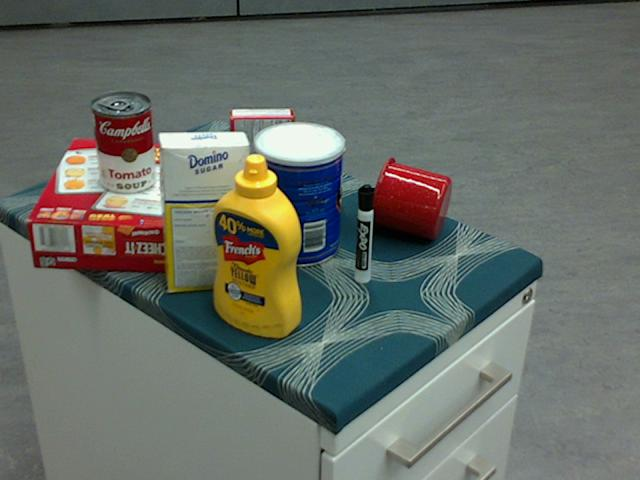cracker_box: (26, 138, 197, 274)
gelatin_box: (229, 109, 293, 163)
large_marker: (356, 184, 374, 283)
master_chef_can: (252, 121, 343, 267)
mug: (368, 156, 451, 239)
mustard_bottle: (213, 153, 302, 338)
potted_meat_can: (262, 133, 344, 214)
sugar_box: (157, 130, 249, 292)
tomato_soup_can: (90, 92, 155, 194)
tuna_fish_can: (186, 148, 229, 218)
